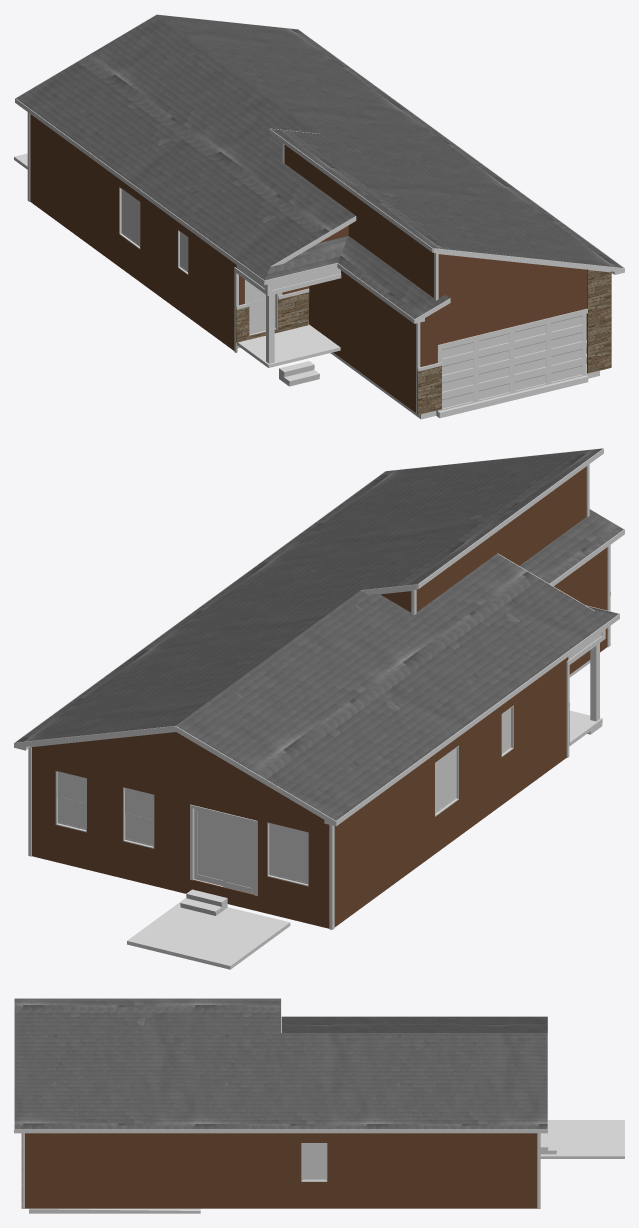
The model's file is 129-1105-dm-modern.glb.
3 views of the same model, one above another, from view 1: azimuth 30°, elevation 25°; view 2: azimuth 150°, elevation 25°; view 3: azimuth 270°, elevation 25° (orthographic). The views are drawn at different scales.
Parts seen in each view (by area): view 1: Basic Roof Wood Rafter 4" - Asphalt Shingle - Insulated_75e1, Basic Wall BSB Exterior - Stud_3.5" - Sheathing_0.5" - _bcdf, Basic Roof Wood Rafter 4" - Asphalt Shingle - Insulated_ff70, Traditional - BSB Exterior - Overhead Garage Door - Clo_5b1e, Basic Wall BSB Exterior - Stud_3.5" - Sheathing_0.5" - _9dfe, Basic Wall BSB Exterior - Stud_3.5" - Sheathing_0.5" - _4c7e, Basic Wall BSB Exterior - Stud_3.5" - Sheathing_0.5" - _7a42, Basic Wall BSB Exterior - Stud_3.5" - Sheathing_0.5" - _7360, Basic Roof Wood Rafter 4" - Asphalt Shingle - Insulated_5ecb, Fascia Fascia-Flat 1x6 w/12" Soffit Bd [4227899], Basic Roof Wood Rafter 4" - Asphalt Shingle - Insulated_cac7, Basic Wall BSB Exterior - Stone Veneer_2" [4392009] (+18 smaller); view 2: Basic Roof Wood Rafter 4" - Asphalt Shingle - Insulated_75e1, Basic Wall BSB Exterior - Stud_3.5" - Sheathing_0.5" - _ec2e, Basic Wall BSB Exterior - Stud_3.5" - Sheathing_0.5" - _bcdf, Basic Roof Wood Rafter 4" - Asphalt Shingle - Insulated_ff70, Floor BSB Concrete Slab - 4" - Slope Option [4571774], Basic Wall BSB Exterior - Stud_3.5" - Sheathing_0.5" - _908d, Fascia Fascia-Flat 1x6 w/12" Soffit Bd [4227899], BSB Exterior - SGD XO - 1-Lite 6068 [4090626], Basic Roof Wood Rafter 4" - Asphalt Shingle - Insulated_5ecb, Basic Wall BSB Exterior - Stud_3.5" - Sheathing_0.5" - _7360, Basic Roof Wood Rafter 4" - Asphalt Shingle - Insulated_cac7, BSB Fixed 4050 FX w/ Sill [4093476] (+11 smaller); view 3: Basic Roof Wood Rafter 4" - Asphalt Shingle - Insulated_75e1, Basic Roof Wood Rafter 4" - Asphalt Shingle - Insulated_ff70, Basic Wall BSB Exterior - Stud_3.5" - Sheathing_0.5" - _e56b, Basic Wall BSB Exterior - Stud_3.5" - Sheathing_0.5" - _636d, Basic Roof Wood Rafter 4" - Asphalt Shingle - Insulated_5ecb, Basic Wall BSB Exterior - Stud_3.5" - Sheathing_0.5" - _eb67, Floor BSB Concrete Slab - 4" - Slope Option [4571774], Fascia Fascia-Flat 1x6 w/12" Soffit Bd [4227899], Basic Wall BSB Exterior - Stud_3.5" - Sheathing_0.5" - _ad61, BSB Single Hung 3050 SH w/ Sill [4102739], Floor BSB Concrete Slab - 4" - Slope Option [4390624], Basic Wall BSB Exterior - Stud_3.5" - Sheathing_0.5" - _4ef5 (+3 smaller).
Boxes of the visible parts, box(x1,y1,x2,y2) form: Basic Roof Wood Rafter 4" - Asphalt Shingle - Insulated_75e1: box(16, 14, 546, 280); Basic Wall BSB Exterior - Stud_3.5" - Sheathing_0.5" - _bcdf: box(30, 114, 225, 344); Basic Roof Wood Rafter 4" - Asphalt Shingle - Insulated_ff70: box(270, 128, 591, 244); Traditional - BSB Exterior - Overhead Garage Door - Clo_5b1e: box(437, 313, 586, 413); Basic Wall BSB Exterior - Stud_3.5" - Sheathing_0.5" - _9dfe: box(309, 270, 396, 398); Basic Wall BSB Exterior - Stud_3.5" - Sheathing_0.5" - _4c7e: box(420, 273, 587, 366); Basic Wall BSB Exterior - Stud_3.5" - Sheathing_0.5" - _7a42: box(440, 254, 587, 308); Basic Wall BSB Exterior - Stud_3.5" - Sheathing_0.5" - _7360: box(284, 144, 409, 279); Basic Roof Wood Rafter 4" - Asphalt Shingle - Insulated_5ecb: box(402, 225, 623, 267); Fascia Fascia-Flat 1x6 w/12" Soffit Bd [4227899]: box(15, 14, 592, 300); Basic Roof Wood Rafter 4" - Asphalt Shingle - Insulated_cac7: box(271, 180, 355, 265); Basic Wall BSB Exterior - Stone Veneer_2" [4392009]: box(587, 270, 611, 373); Basic Roof Wood Rafter 4" - Asphalt Shingle - Insulated_75e1: box(15, 536, 618, 820); Basic Wall BSB Exterior - Stud_3.5" - Sheathing_0.5" - _ec2e: box(32, 745, 329, 928); Basic Wall BSB Exterior - Stud_3.5" - Sheathing_0.5" - _bcdf: box(327, 666, 556, 927); Basic Roof Wood Rafter 4" - Asphalt Shingle - Insulated_ff70: box(298, 475, 566, 589); Floor BSB Concrete Slab - 4" - Slope Option [4571774]: box(127, 897, 290, 969); Basic Wall BSB Exterior - Stud_3.5" - Sheathing_0.5" - _908d: box(47, 732, 305, 808); Fascia Fascia-Flat 1x6 w/12" Soffit Bd [4227899]: box(14, 475, 619, 825); BSB Exterior - SGD XO - 1-Lite 6068 [4090626]: box(190, 804, 257, 895); Basic Roof Wood Rafter 4" - Asphalt Shingle - Insulated_5ecb: box(350, 448, 602, 497); Basic Wall BSB Exterior - Stud_3.5" - Sheathing_0.5" - _7360: box(409, 487, 557, 612); Basic Roof Wood Rafter 4" - Asphalt Shingle - Insulated_cac7: box(441, 553, 593, 610); BSB Fixed 4050 FX w/ Sill [4093476]: box(267, 822, 308, 886); Basic Roof Wood Rafter 4" - Asphalt Shingle - Insulated_75e1: box(141, 1016, 547, 1129); Basic Roof Wood Rafter 4" - Asphalt Shingle - Insulated_ff70: box(66, 998, 280, 1129); Basic Wall BSB Exterior - Stud_3.5" - Sheathing_0.5" - _e56b: box(247, 1133, 537, 1208); Basic Wall BSB Exterior - Stud_3.5" - Sheathing_0.5" - _636d: box(109, 1133, 247, 1208); Basic Roof Wood Rafter 4" - Asphalt Shingle - Insulated_5ecb: box(14, 998, 65, 1129); Basic Wall BSB Exterior - Stud_3.5" - Sheathing_0.5" - _eb67: box(31, 1133, 108, 1208); Floor BSB Concrete Slab - 4" - Slope Option [4571774]: box(540, 1120, 624, 1158); Fascia Fascia-Flat 1x6 w/12" Soffit Bd [4227899]: box(63, 998, 547, 1133); Basic Wall BSB Exterior - Stud_3.5" - Sheathing_0.5" - _ad61: box(31, 1133, 57, 1208); BSB Single Hung 3050 SH w/ Sill [4102739]: box(301, 1143, 327, 1181); Floor BSB Concrete Slab - 4" - Slope Option [4390624]: box(29, 1208, 200, 1213); Basic Wall BSB Exterior - Stud_3.5" - Sheathing_0.5" - _4ef5: box(25, 1133, 31, 1208).
Size of the model in its own units: 9.49 by 5.67 by 21.66.
Materials: 3 (2 with a texture image).
